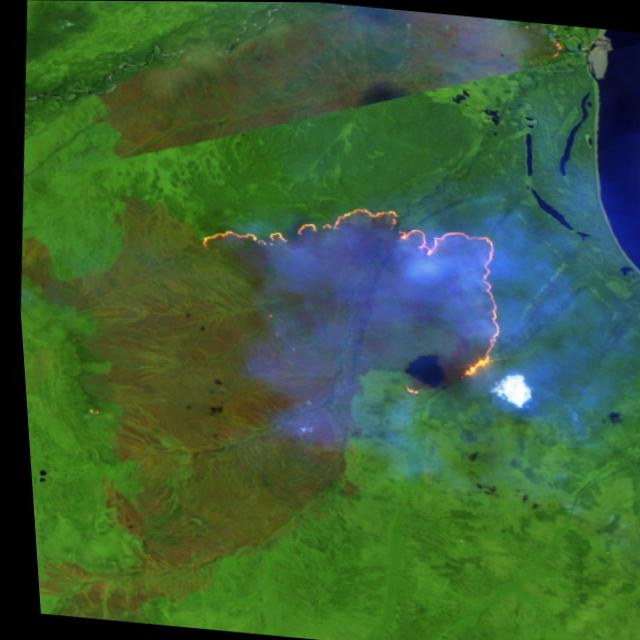fire: (175, 184, 520, 409)
